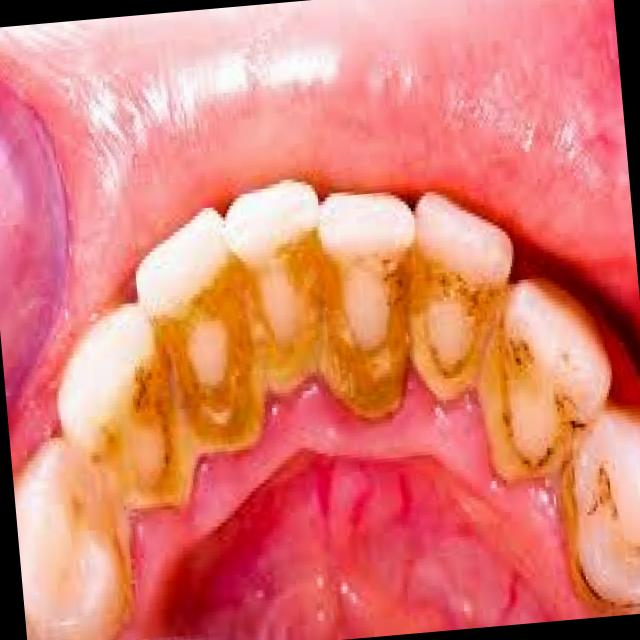calculus: (84, 340, 190, 616), (161, 268, 271, 502), (309, 228, 422, 421), (467, 336, 588, 508), (399, 254, 519, 402), (250, 226, 336, 412), (549, 468, 640, 608)
